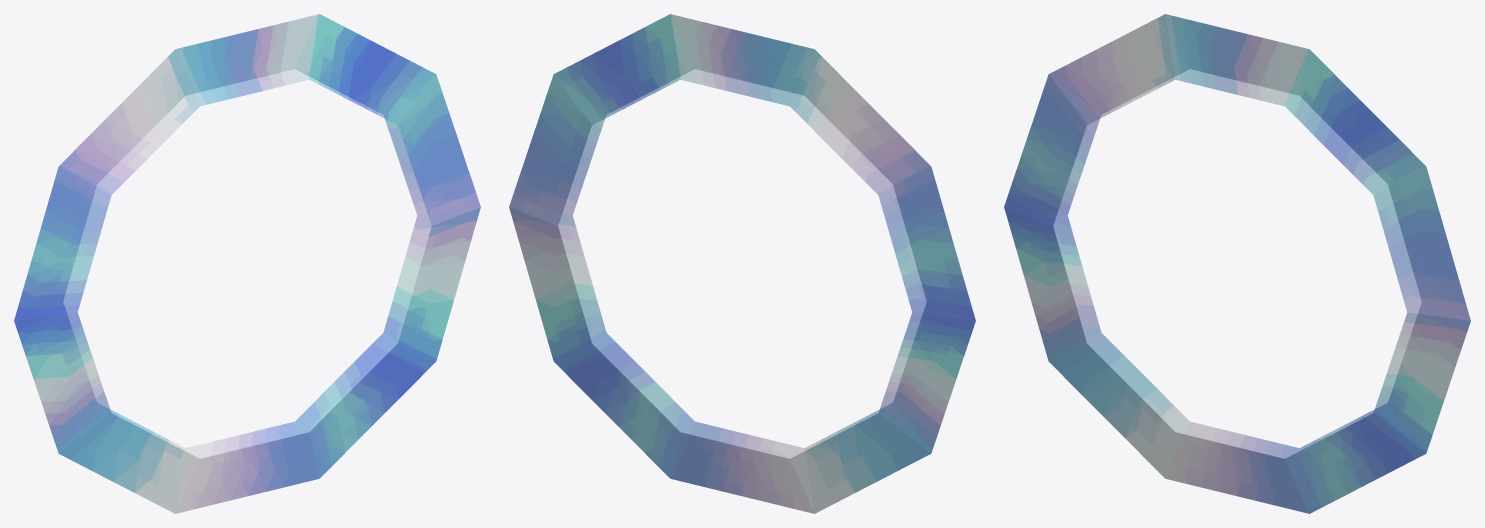
File: w_ring.obj
3 views of the same model, side by side, from view 1: azimuth 30°, elevation 25°; view 2: azimuth 150°, elevation 25°; view 3: azimuth 330°, elevation 25° (orthographic).
Visible parts, largest first — view 1: modle; view 2: modle; view 3: modle.
Boxes of the visible parts, box(x1,y1,x2,y2) form: modle: box(14, 14, 480, 513); modle: box(509, 14, 975, 513); modle: box(1004, 14, 1470, 513).
Size of the model in its own units: 27 by 25.68 by 1.46.
1 material, 1 textured.
